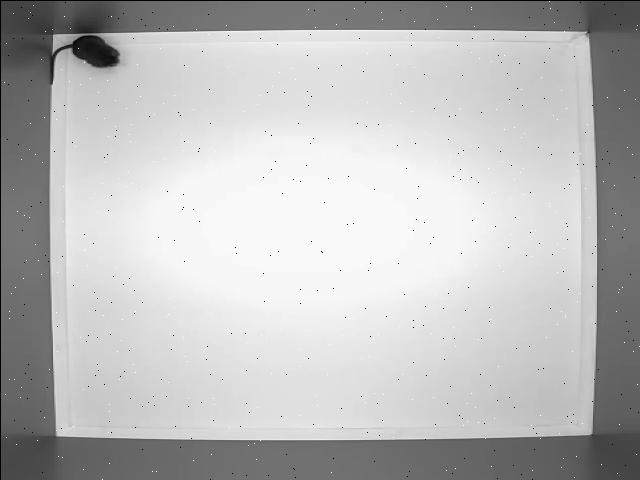Tikus: (42, 30, 119, 84)
